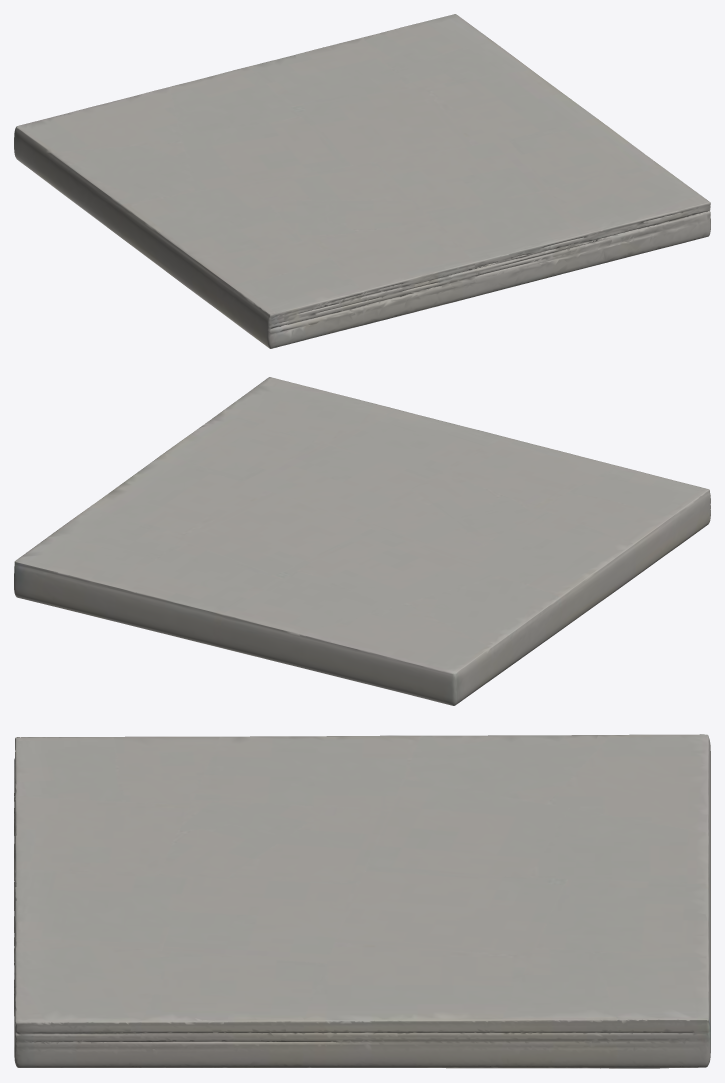
File: 瓷砖地板.glb
3 renders of one model, top to bottom at view 1: azimuth 30°, elevation 25°; view 2: azimuth 150°, elevation 25°; view 3: azimuth 270°, elevation 25°, orthographic. The views are drawn at different scales.
Visible parts, largest first — view 1: tripo_node_2430204c-f600-42c0-a02a-6dd1980c5fbc; view 2: tripo_node_2430204c-f600-42c0-a02a-6dd1980c5fbc; view 3: tripo_node_2430204c-f600-42c0-a02a-6dd1980c5fbc.
Boxes of the visible parts, bbox=[...] form: tripo_node_2430204c-f600-42c0-a02a-6dd1980c5fbc: bbox=[14, 14, 710, 348]; tripo_node_2430204c-f600-42c0-a02a-6dd1980c5fbc: bbox=[14, 377, 710, 705]; tripo_node_2430204c-f600-42c0-a02a-6dd1980c5fbc: bbox=[14, 734, 710, 1068].
Bounding box in the file's own units: 0.9978 × 0.1211 × 1.
1 material, 1 textured.
